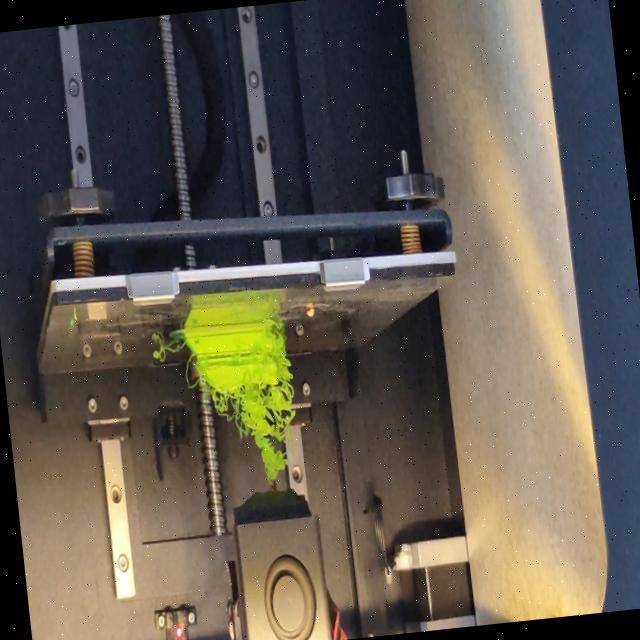spaghetti: (209, 375, 304, 490), (272, 308, 296, 379), (152, 337, 187, 366), (184, 354, 198, 394)
